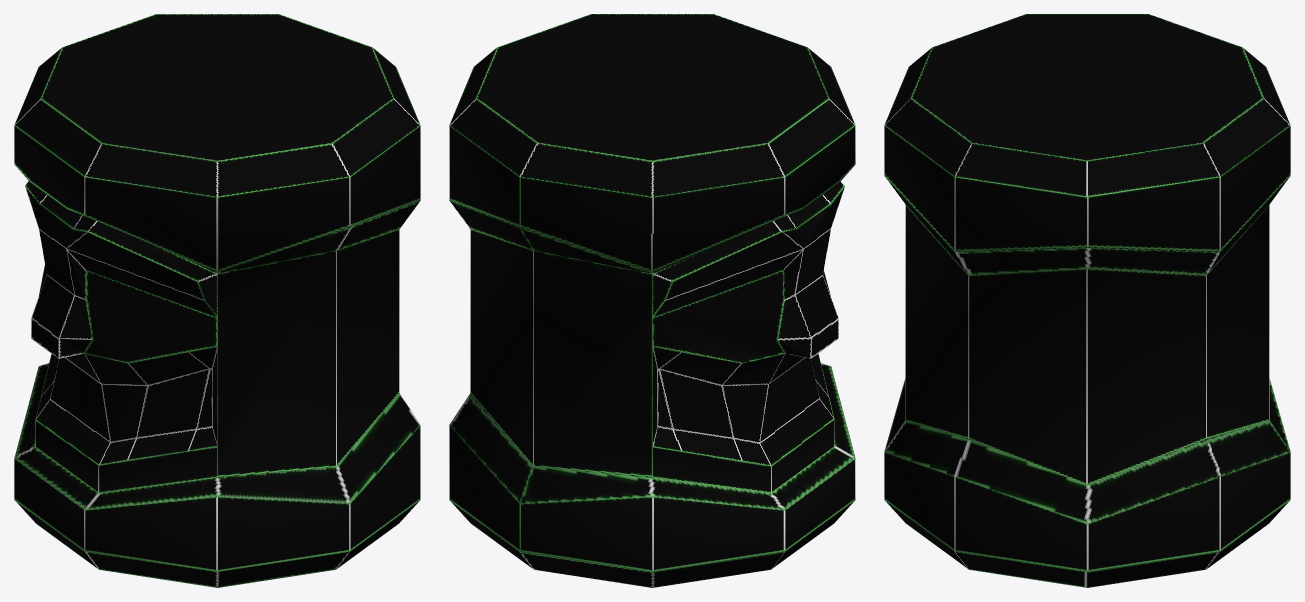
File: Totem.FBX
The picture shows the model from 3 angles, left to right: view 1: azimuth 30°, elevation 25°; view 2: azimuth 150°, elevation 25°; view 3: azimuth 270°, elevation 25°; orthographic projection.
Parts seen in each view (by area): view 1: Cylinder001; view 2: Cylinder001; view 3: Cylinder001.
Boxes of the visible parts, x1,y1,x2,y2 form: Cylinder001: [14, 14, 420, 587]; Cylinder001: [449, 14, 855, 587]; Cylinder001: [884, 14, 1290, 587].
Size of the model in its own units: 19.65 by 22.71 by 19.7.
